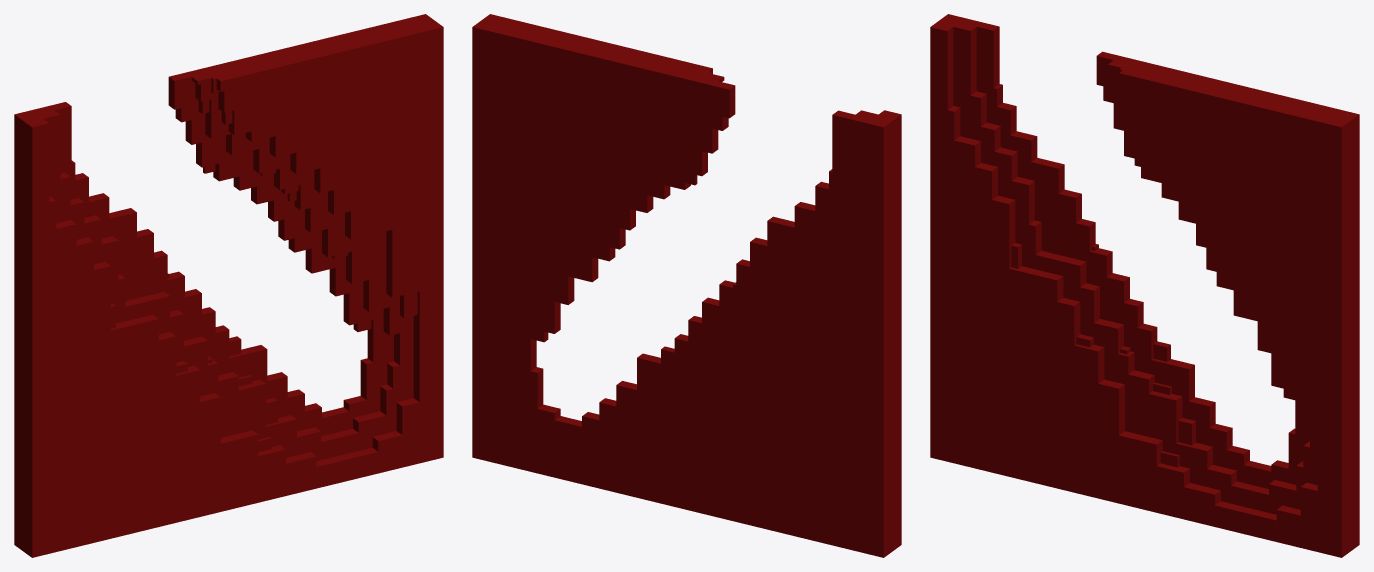
Rendered from horseshoe end diagonal.obj.
3 renders of one model, left to right at view 1: azimuth 30°, elevation 25°; view 2: azimuth 150°, elevation 25°; view 3: azimuth 330°, elevation 25°, orthographic.
Size of the model in its own units: 120 by 120 by 9.
1 material, 1 textured.
